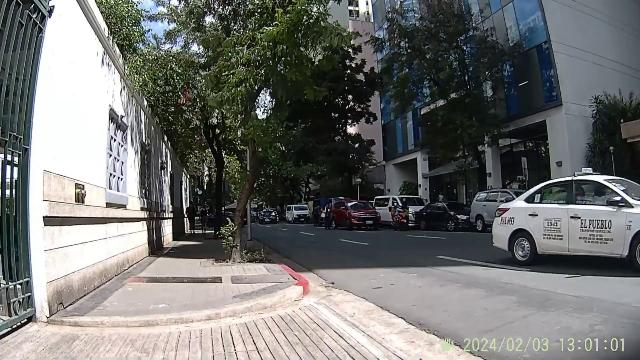tree: (230, 134, 274, 266)
